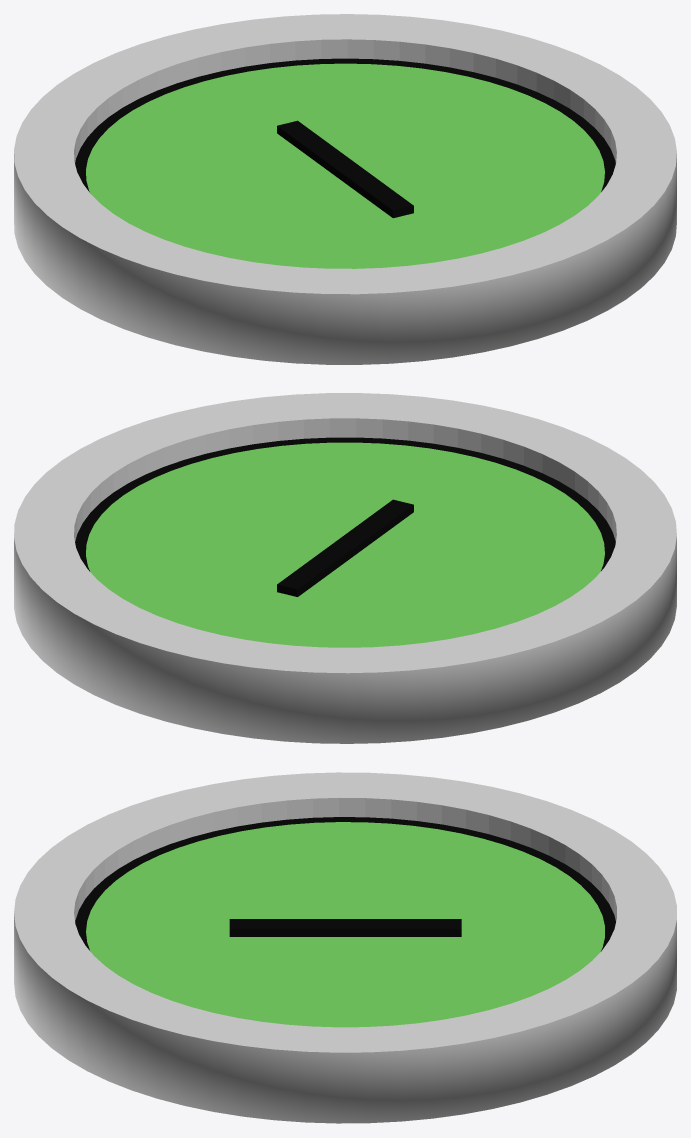
The model's file is start-button.fbx.
3 views of the same model, one above another, from view 1: azimuth 30°, elevation 25°; view 2: azimuth 150°, elevation 25°; view 3: azimuth 270°, elevation 25° (orthographic).
Parts seen in each view (by area): view 1: Start-Button, Center; view 2: Start-Button, Center; view 3: Start-Button, Center.
Boxes of the visible parts, box(x1,y1,x2,y2) form: Start-Button: box(14, 14, 676, 364); Center: box(75, 58, 615, 268); Start-Button: box(14, 393, 676, 743); Center: box(75, 437, 615, 647); Start-Button: box(14, 772, 676, 1123); Center: box(75, 817, 615, 1027).
Bounding box in the file's own units: 2.44 × 0.2876 × 2.44.
